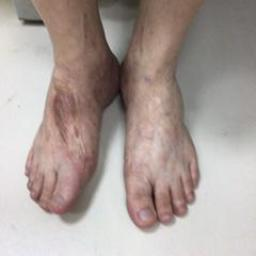Dorsal View -Both Feet-: (19, 17, 219, 234)
